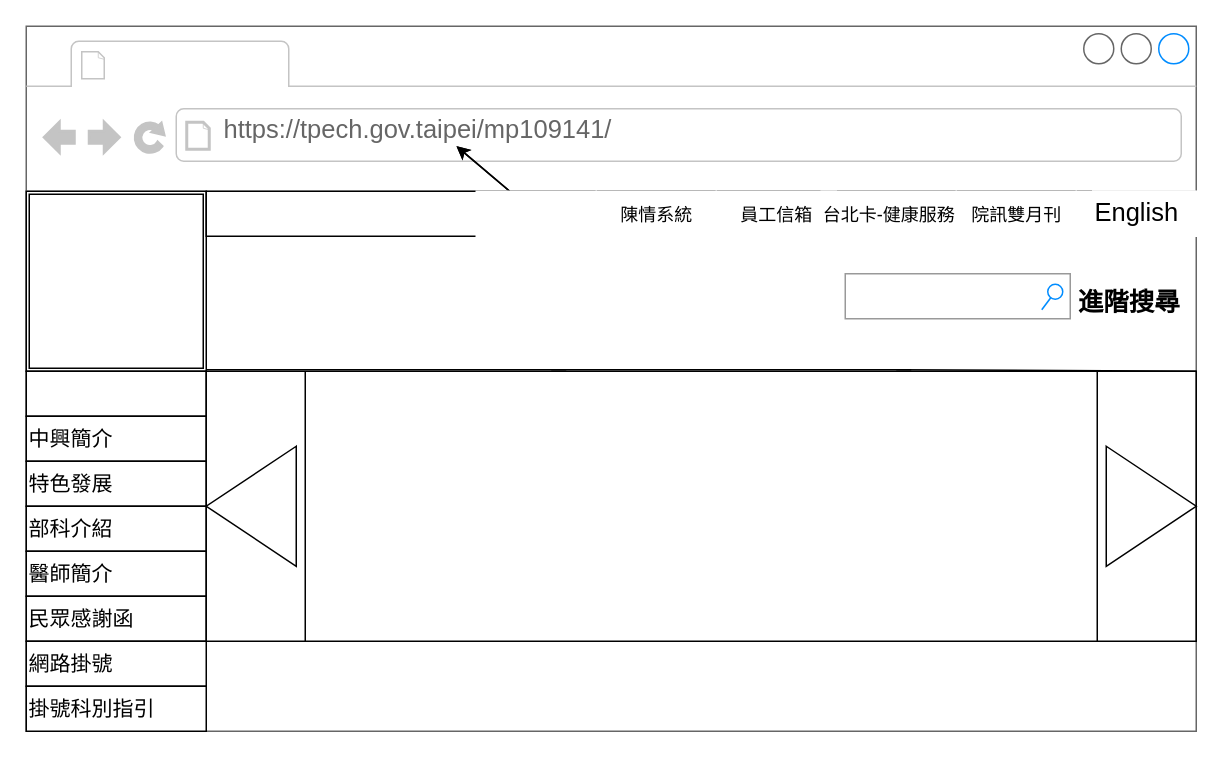
Some shapes in this 1224 by 758 pixel diagram are drawn without their labels. Here are the shapes that lost their labels. From the top down, the centre of each, then its label:
At [198,63]: "Page 1".
At [535,213]: "網站導覽".
At [115,280]: "ＬＯＧＯ 臺北市立聯合醫院 中 興 院 區".
At [957,295]: "請輸入關鍵字".
At [115,393]: "使命願景及定位".
